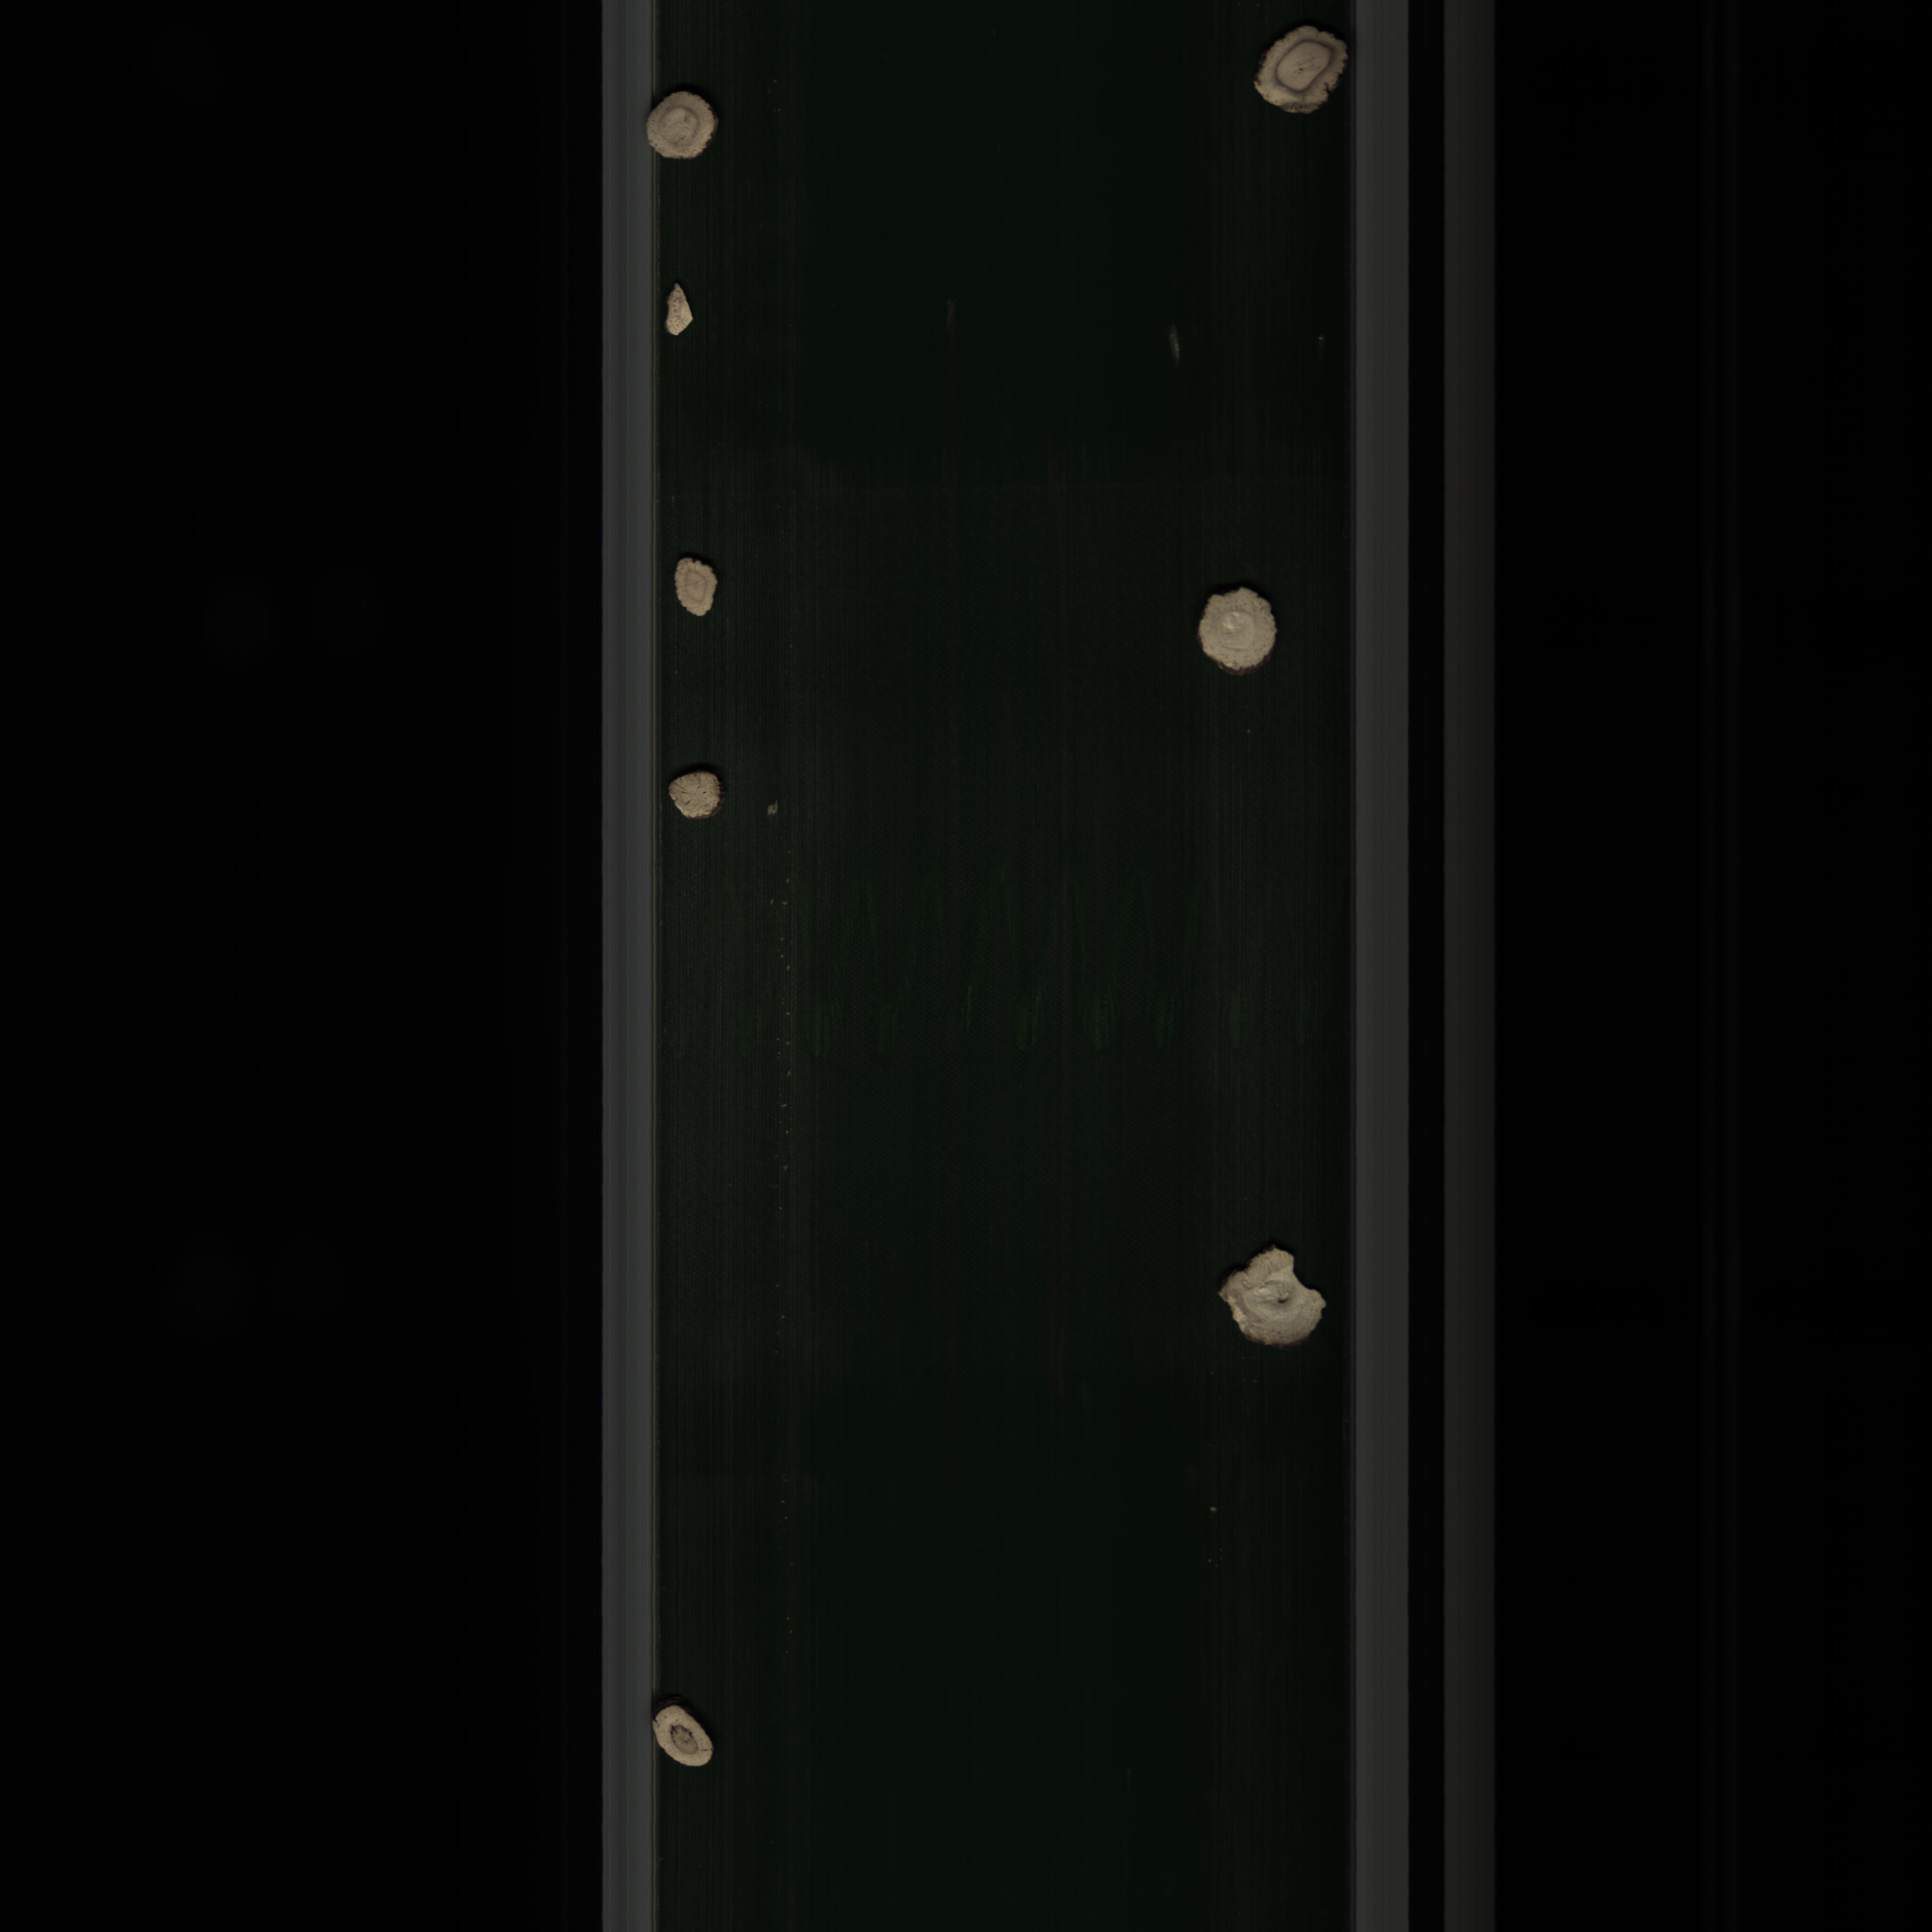bark: (656, 281, 702, 341)
debris: (1215, 1235, 1325, 1357)
moldy: (1254, 23, 1346, 124), (644, 1695, 720, 1776)
